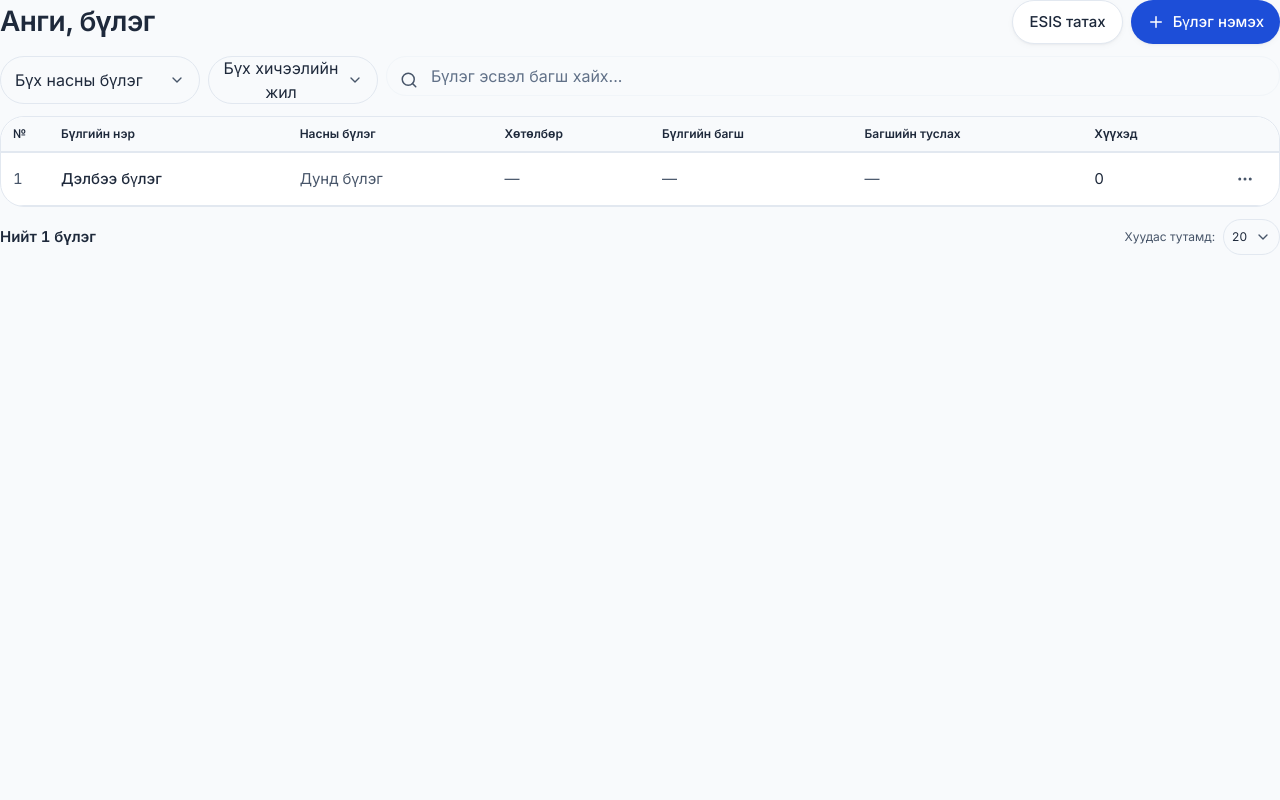
Test case: the group list › assigns teachers in two lists, lead and assistant
What coordinates should you click on to do the following:
click the button named "Дэлбээ — үйлдэл"
I would click on:
 (1245, 179)
Its box is [1223,157,1267,201].
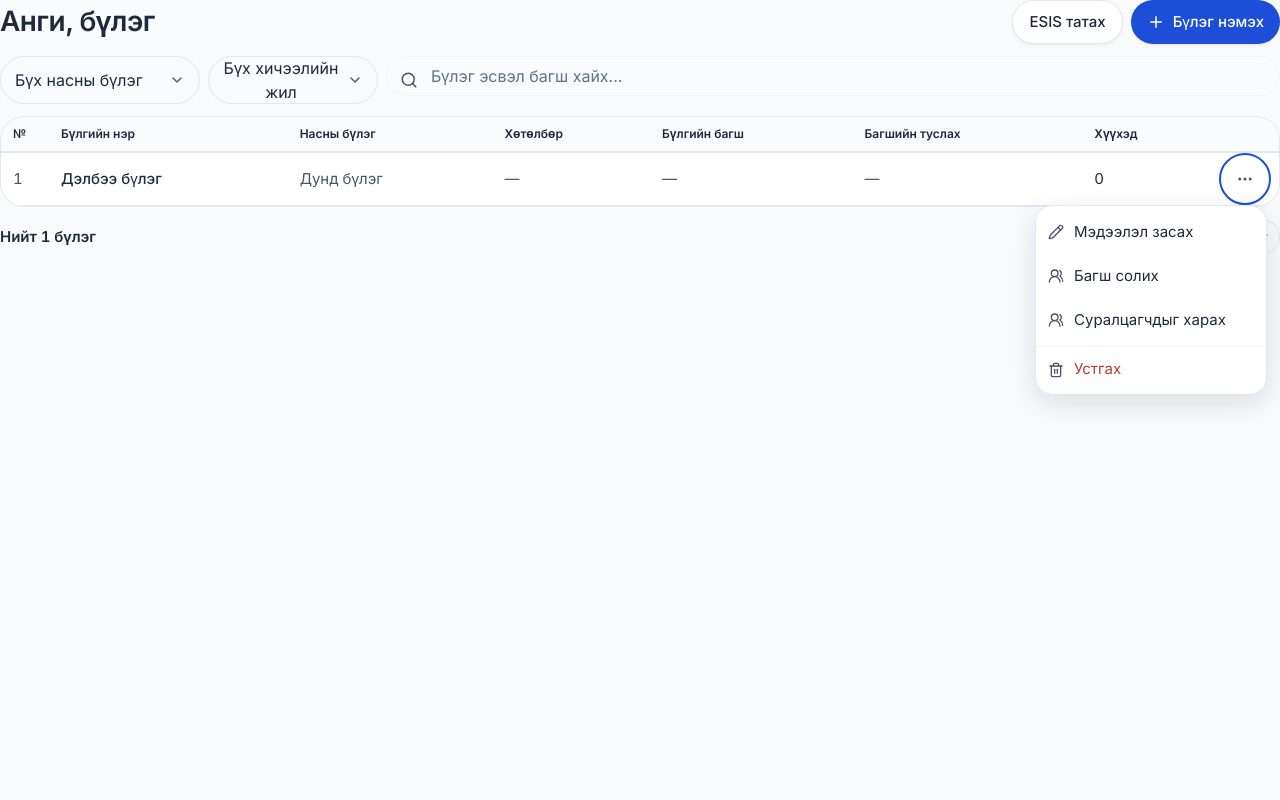
What coordinates should you click on to do the following:
click the menu item "Багш солих"
I would click on:
 (1151, 276)
Its box is [1036,254,1266,298].
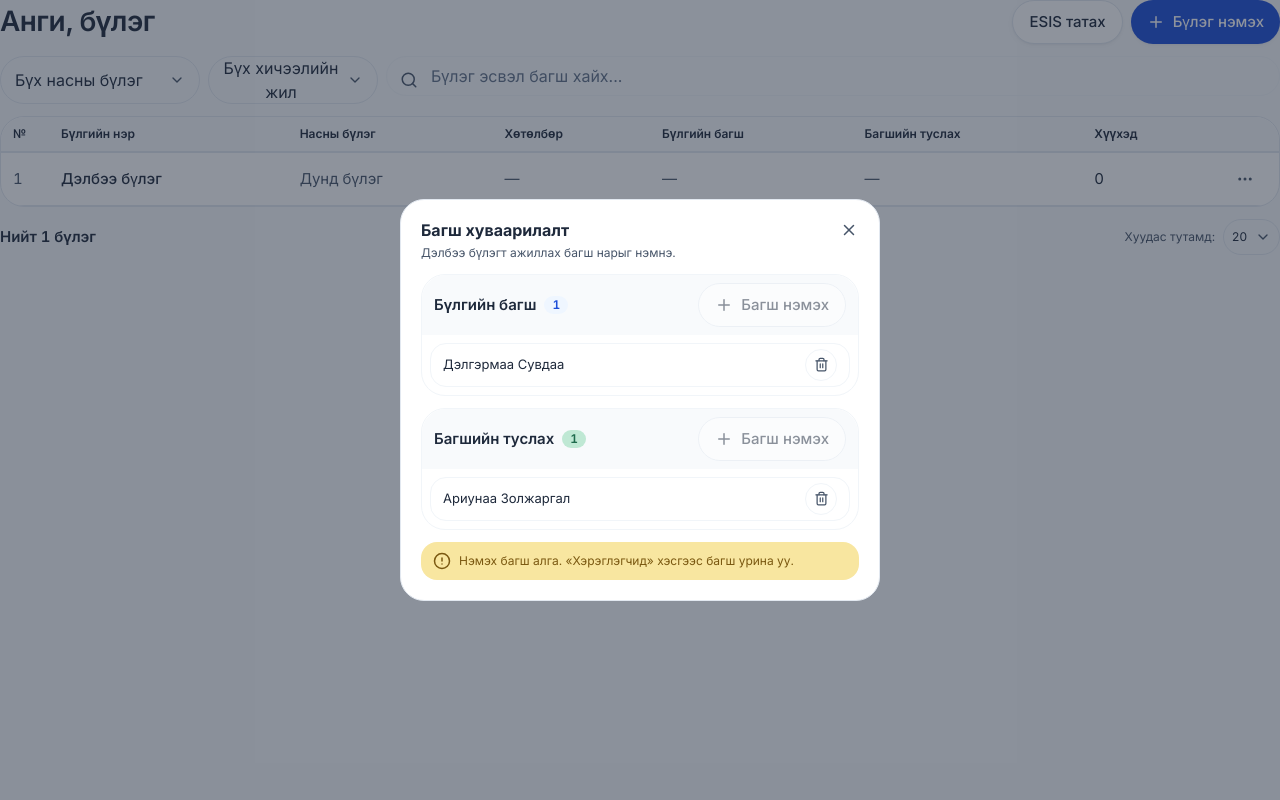
Result: the heading "Багш хуваарилалт" is shown at [421,220,569,240]
Result: the text "Дэлгэрмаа Сувдаа" is shown at [443,355,564,374]
Result: the text "Ариунаа Золжаргал" is shown at [443,489,570,508]
